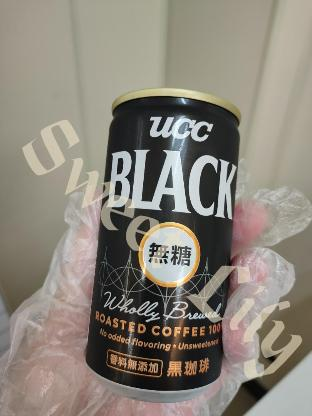Can: (86, 90, 240, 402)
